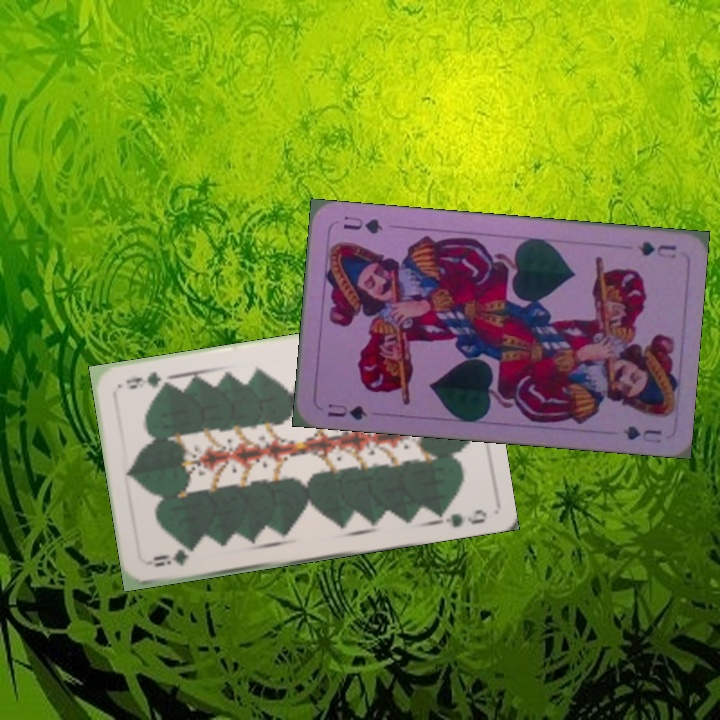G9: (149, 546, 191, 569)
GU: (324, 399, 370, 423), (634, 237, 679, 261)
